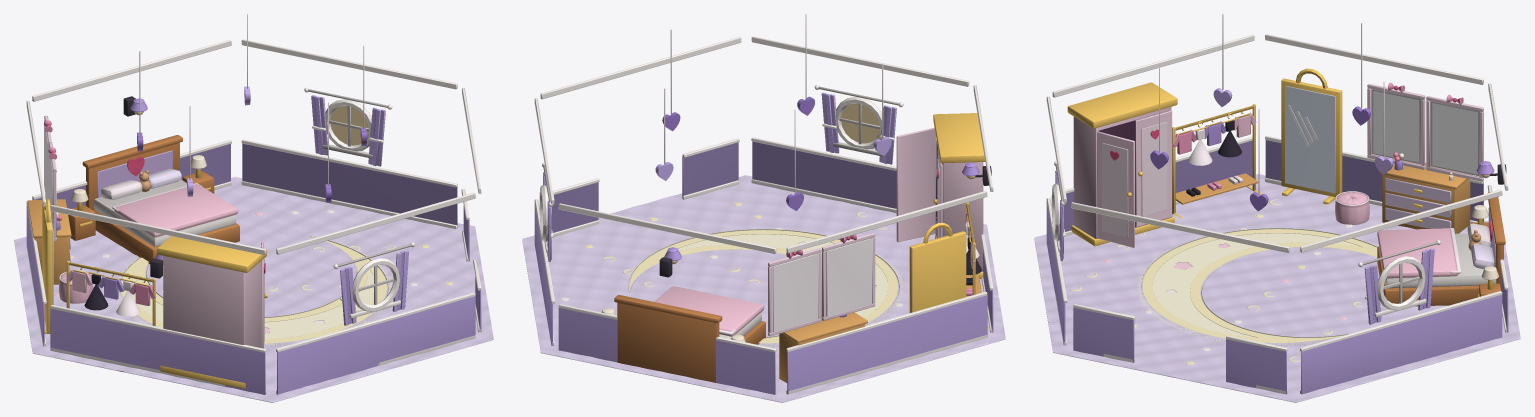
The model's file is zon_room_wardrobe.glb.
3 views of the same model, side by side, from view 1: azimuth 30°, elevation 25°; view 2: azimuth 150°, elevation 25°; view 3: azimuth 270°, elevation 25° (orthographic).
Parts seen in each view (by area): view 1: SM_zon_room_wardrobe_room_floor_plaster_xm1_zm1, SM_zon_room_wardrobe_room_floor_fabric_xm1_zm1, SM_zon_room_wardrobe_room_floor_wood_xm1_zm1, SM_zon_room_wardrobe_room_floor_gloss_xm1_zm1, SM_zon_room_wardrobe_room_rug_fabric_xm1_zm1, SM_zon_room_wardrobe_glow_vc_xm1_zm1; view 2: SM_zon_room_wardrobe_room_floor_plaster_xm1_zm1, SM_zon_room_wardrobe_room_floor_fabric_xm1_zm1, SM_zon_room_wardrobe_room_floor_wood_xm1_zm1, SM_zon_room_wardrobe_room_floor_gloss_xm1_zm1, SM_zon_room_wardrobe_room_rug_fabric_xm1_zm1, SM_zon_room_wardrobe_glow_vc_xm1_zm1; view 3: SM_zon_room_wardrobe_room_floor_plaster_xm1_zm1, SM_zon_room_wardrobe_room_floor_fabric_xm1_zm1, SM_zon_room_wardrobe_room_rug_fabric_xm1_zm1, SM_zon_room_wardrobe_room_floor_gloss_xm1_zm1, SM_zon_room_wardrobe_room_floor_wood_xm1_zm1, SCREEN_fur_dresser_wardrobe_you__0, SCREEN_fur_dresser_wardrobe_them__0.
Boxes of the visible parts, <box> form: SM_zon_room_wardrobe_room_floor_plaster_xm1_zm1: <box>26,14,481,394</box>; SM_zon_room_wardrobe_room_floor_fabric_xm1_zm1: <box>14,176,493,402</box>; SM_zon_room_wardrobe_room_floor_wood_xm1_zm1: <box>27,135,239,284</box>; SM_zon_room_wardrobe_room_floor_gloss_xm1_zm1: <box>42,169,267,388</box>; SM_zon_room_wardrobe_room_rug_fabric_xm1_zm1: <box>117,236,392,347</box>; SM_zon_room_wardrobe_glow_vc_xm1_zm1: <box>134,105,368,264</box>; SM_zon_room_wardrobe_room_floor_plaster_xm1_zm1: <box>534,14,993,394</box>; SM_zon_room_wardrobe_room_floor_fabric_xm1_zm1: <box>522,175,1005,402</box>; SM_zon_room_wardrobe_room_floor_wood_xm1_zm1: <box>614,275,981,382</box>; SM_zon_room_wardrobe_room_floor_gloss_xm1_zm1: <box>909,113,989,328</box>; SM_zon_room_wardrobe_room_rug_fabric_xm1_zm1: <box>626,228,903,346</box>; SM_zon_room_wardrobe_glow_vc_xm1_zm1: <box>672,103,975,264</box>; SM_zon_room_wardrobe_room_floor_plaster_xm1_zm1: <box>1046,14,1508,394</box>; SM_zon_room_wardrobe_room_floor_fabric_xm1_zm1: <box>1034,174,1520,402</box>; SM_zon_room_wardrobe_room_rug_fabric_xm1_zm1: <box>1136,227,1378,346</box>; SM_zon_room_wardrobe_room_floor_gloss_xm1_zm1: <box>1067,68,1493,296</box>; SM_zon_room_wardrobe_room_floor_wood_xm1_zm1: <box>1175,160,1505,306</box>; SCREEN_fur_dresser_wardrobe_you__0: <box>1373,91,1419,162</box>; SCREEN_fur_dresser_wardrobe_them__0: <box>1432,103,1477,174</box>.
Bounding box in the file's own units: 10.57 × 5.01 × 9.53.
